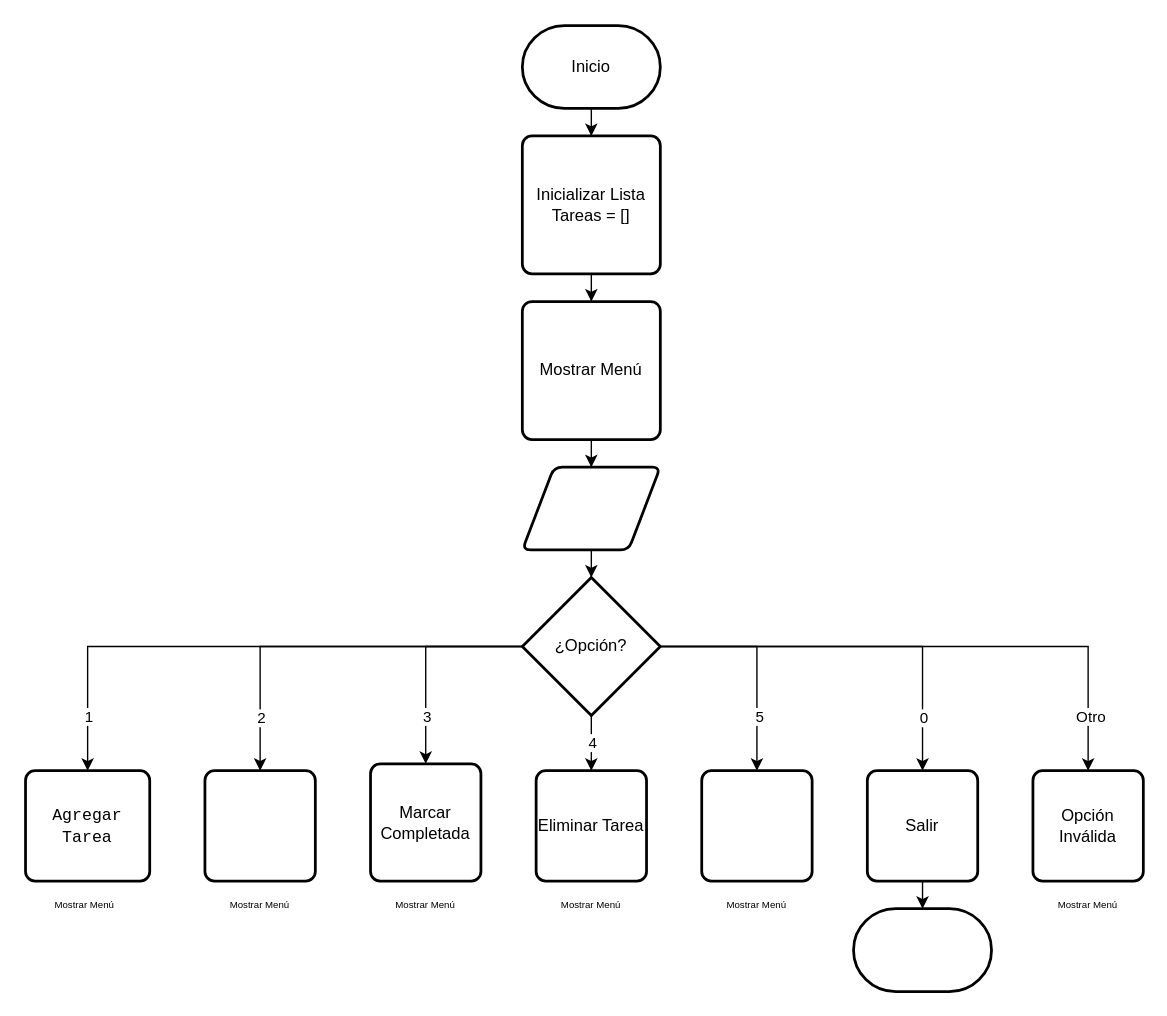
Some shapes in this 1167 by 1016 pixel diagram are drawn without their labels. The shapes that lost their labels are listed below. From the top down, each one's box as (x1, y1, x2, y2) in pixels, then its label:
(520, 465, 661, 551): Leer Opción
(203, 769, 316, 882): Listar tareas
(700, 769, 813, 882): Buscar Tarea
(851, 907, 992, 992): Fin
